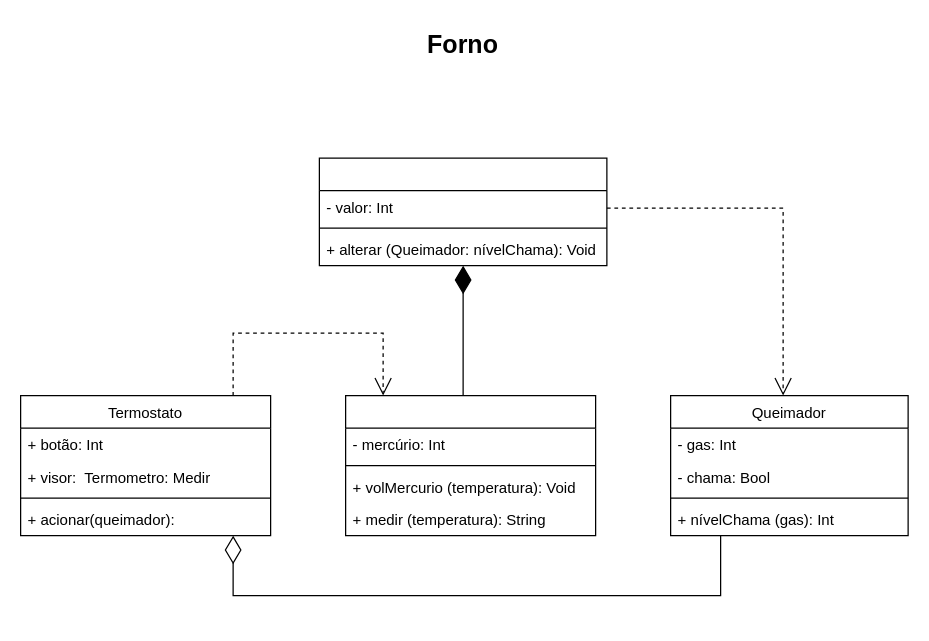
This 929x641 diagram has some shape labels left out. The shapes that lost their labels are listed below. From the top down, each one's box as (x1, y1, x2, y2) in pixels, then its label:
(318, 157, 607, 266): Temperatura
(344, 394, 596, 536): Termometro
